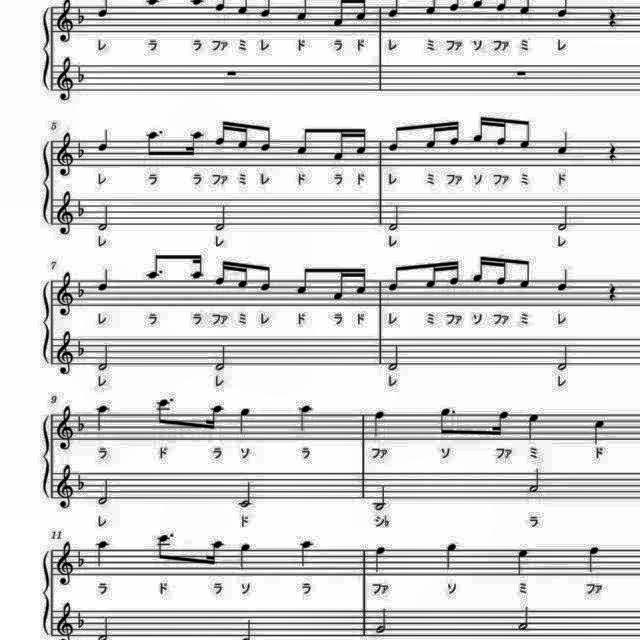Bemol: (75, 4, 91, 26), (74, 278, 88, 302), (75, 140, 88, 164), (73, 414, 87, 436), (73, 609, 87, 631), (75, 336, 89, 358), (74, 468, 86, 492), (74, 547, 86, 569), (76, 197, 88, 219), (76, 64, 86, 85)
Eighth-note: (142, 248, 170, 280), (290, 262, 314, 298), (434, 404, 458, 440), (142, 126, 166, 162), (516, 112, 536, 154), (154, 396, 178, 430), (293, 123, 315, 159), (514, 255, 534, 293), (155, 532, 177, 566), (384, 122, 404, 156), (384, 261, 404, 295), (256, 121, 274, 155), (256, 262, 274, 294)
Half-note: (236, 478, 256, 510), (554, 342, 574, 374), (554, 200, 574, 232), (212, 200, 232, 232), (382, 202, 402, 234), (212, 342, 232, 373), (95, 202, 114, 234), (92, 342, 111, 374), (372, 482, 392, 512), (514, 606, 534, 636), (95, 476, 113, 508), (383, 342, 401, 374), (526, 466, 544, 496), (374, 606, 392, 636)
Half-rest: (513, 66, 531, 80), (222, 66, 240, 80)
Quarter-note: (294, 402, 316, 434), (94, 402, 114, 434), (514, 546, 534, 578), (296, 536, 316, 568), (524, 410, 544, 442), (370, 408, 390, 439), (95, 538, 114, 570), (590, 415, 610, 445), (237, 405, 255, 437), (372, 544, 390, 576), (443, 540, 461, 572), (237, 540, 255, 572), (585, 542, 603, 574), (554, 130, 574, 158), (554, 266, 572, 294), (96, 266, 114, 294), (96, 127, 114, 155)
Quarter-rest: (606, 4, 622, 30), (606, 280, 622, 304), (604, 139, 620, 163)
Sixteenth-note: (469, 110, 491, 148), (202, 538, 226, 572), (328, 264, 348, 304), (488, 408, 512, 440), (202, 402, 225, 434), (232, 118, 252, 154), (213, 115, 233, 151), (184, 128, 206, 160), (331, 126, 349, 164), (234, 258, 253, 294), (212, 256, 232, 290), (493, 114, 511, 150), (471, 252, 489, 288), (188, 253, 208, 285), (443, 117, 461, 151), (496, 253, 512, 290), (354, 264, 371, 298), (354, 124, 371, 158), (444, 256, 461, 290), (421, 260, 439, 292), (423, 120, 441, 152)
Treble-clef: (54, 328, 78, 379), (55, 129, 79, 179), (54, 403, 78, 453), (54, 268, 78, 318), (54, 540, 78, 588), (55, 189, 77, 239), (55, 463, 77, 512), (56, 54, 76, 104), (56, 0, 76, 44), (56, 600, 76, 640)
